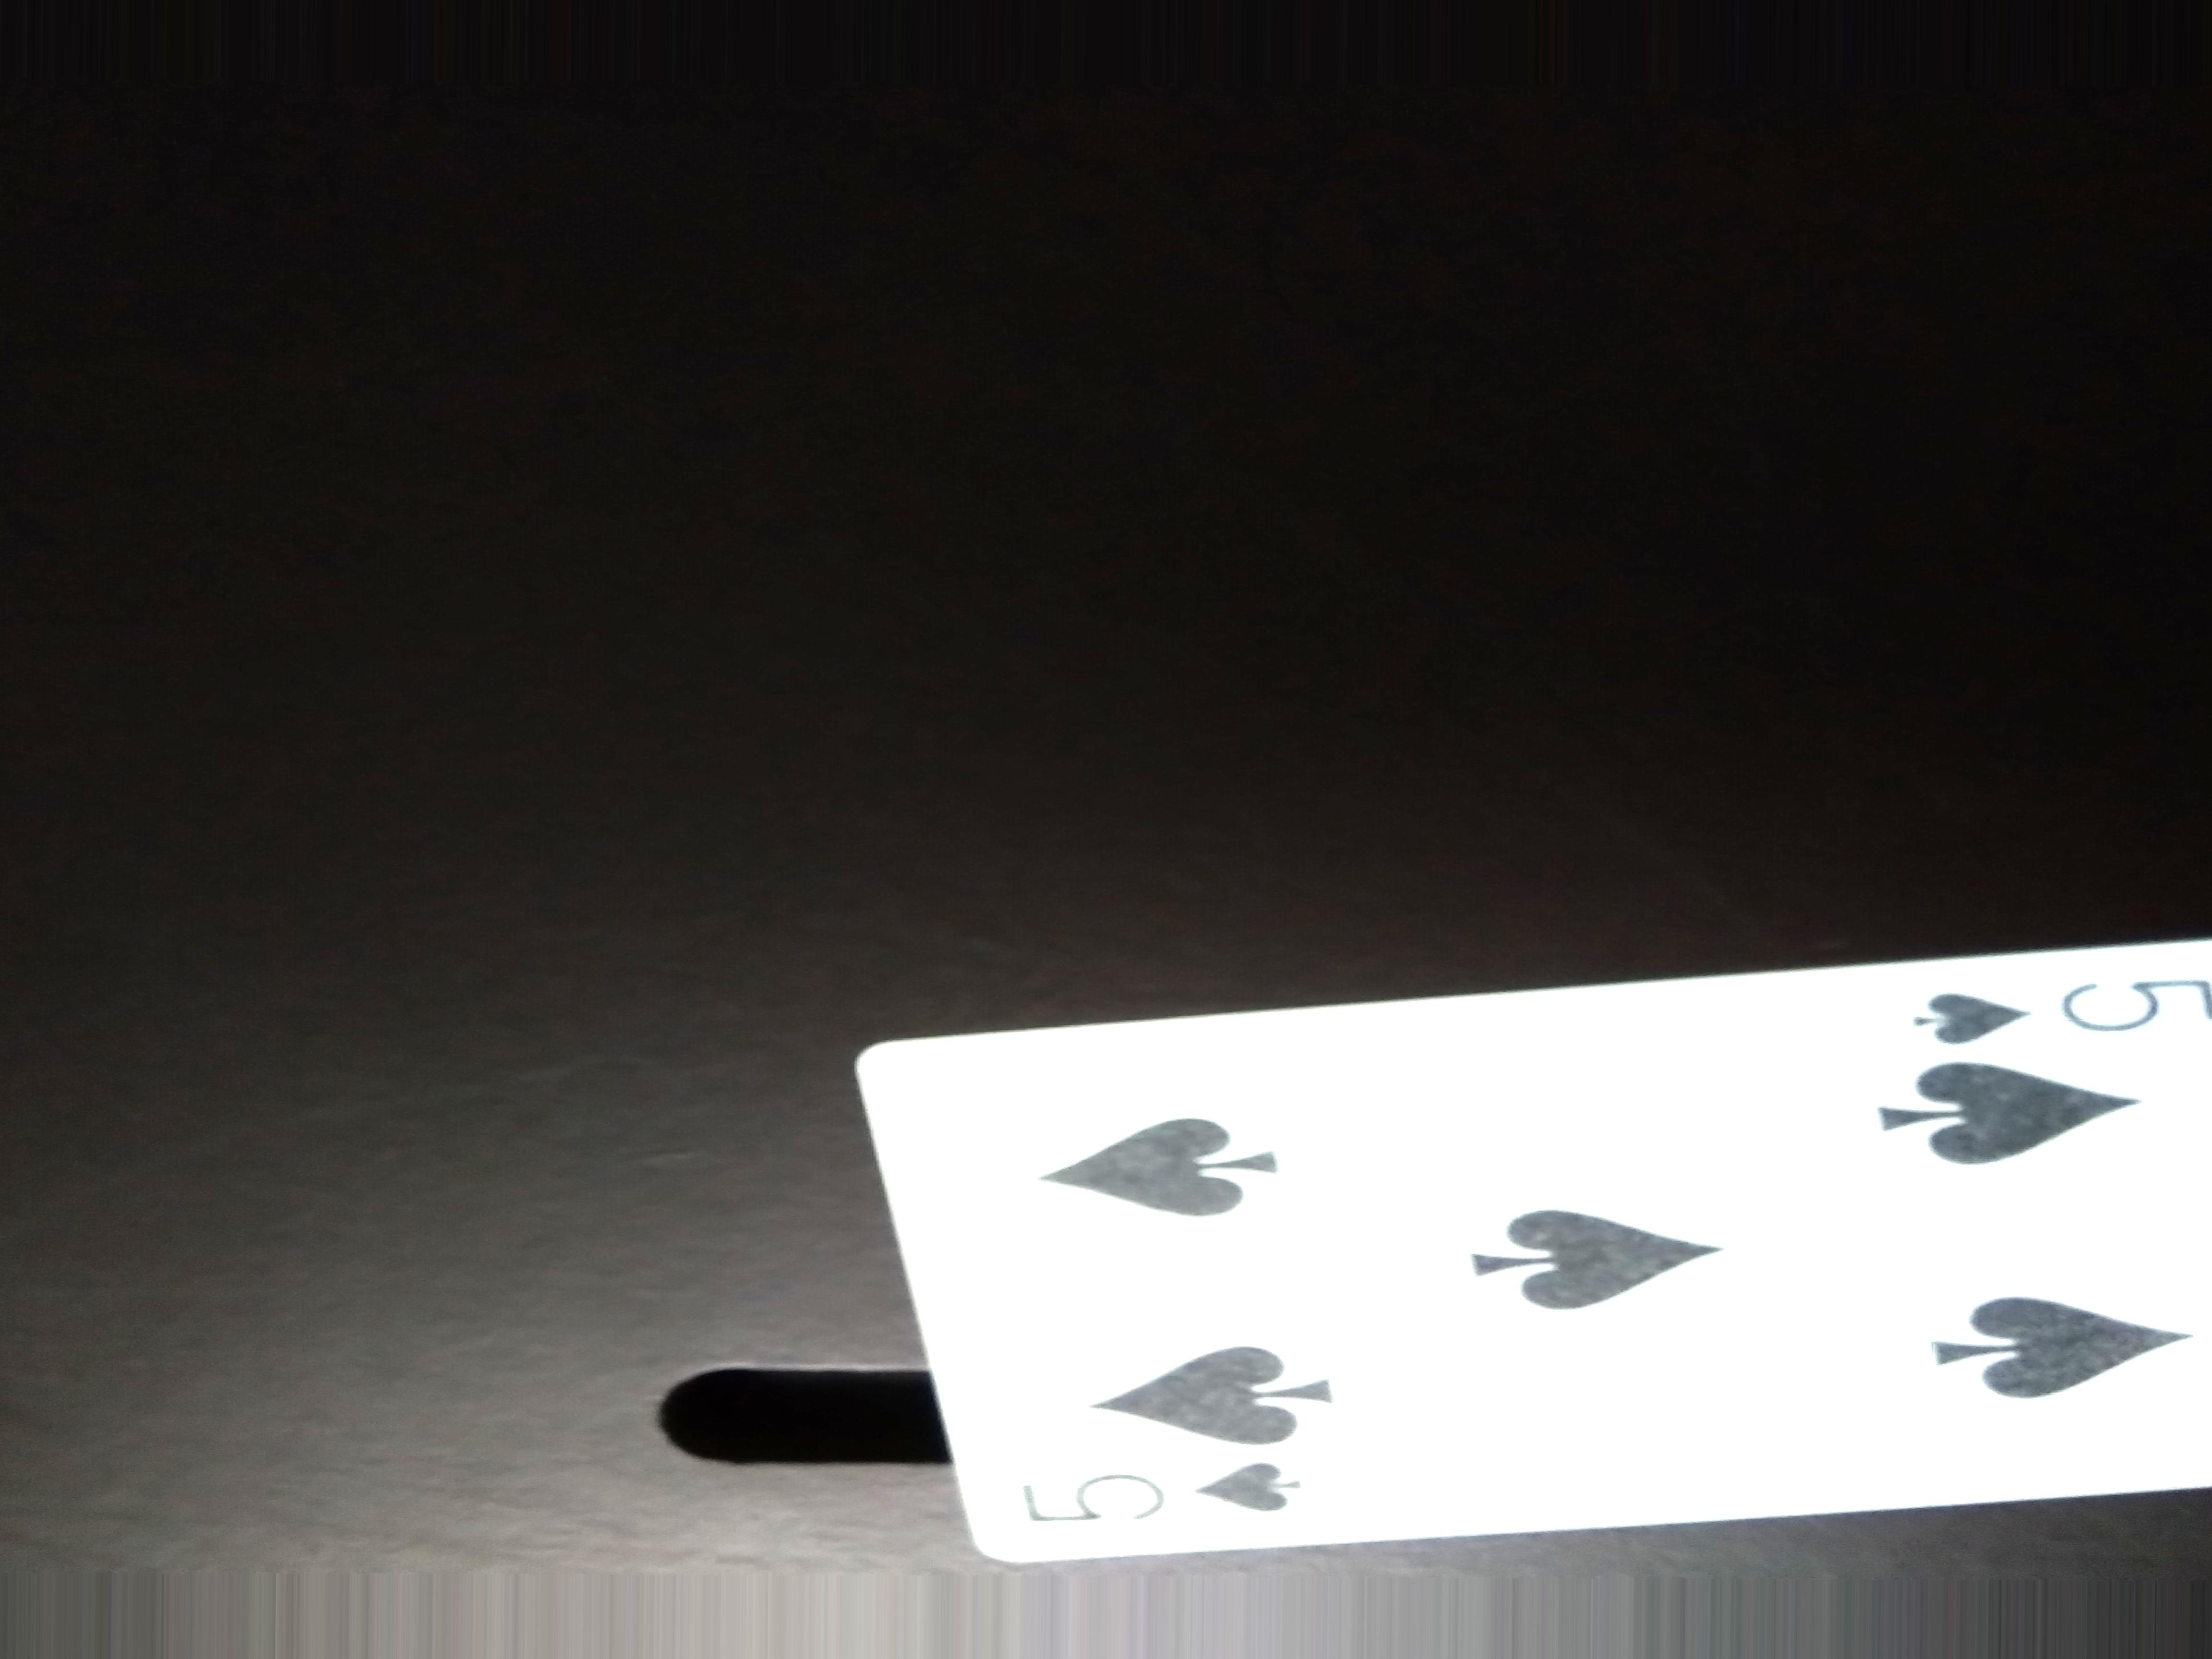5S: (977, 1457, 1313, 1537)
